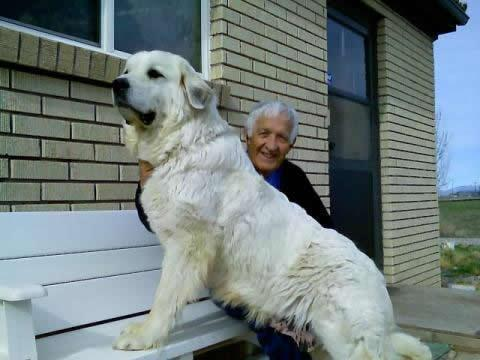Great_Pyrenees: (110, 49, 433, 358)
